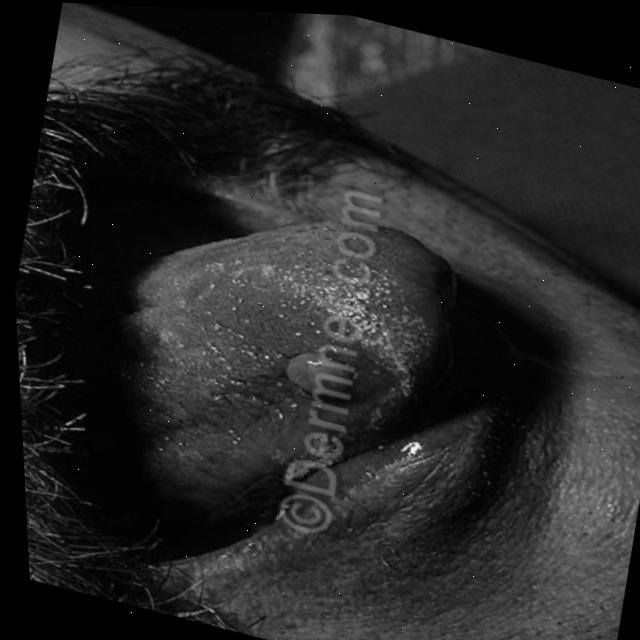Eczema: (281, 342, 358, 420)
